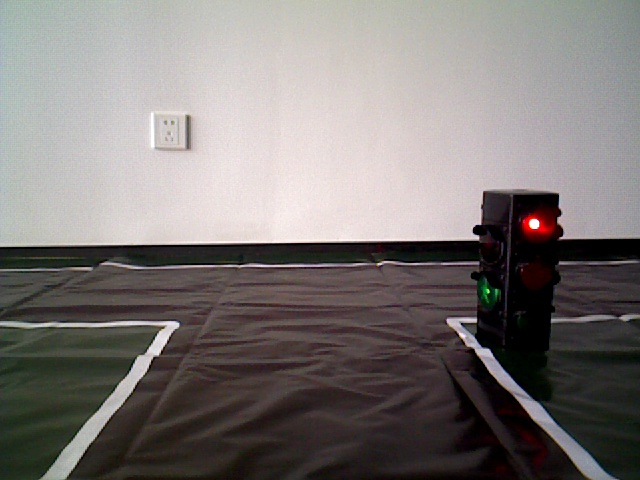red: (482, 192, 550, 351)
